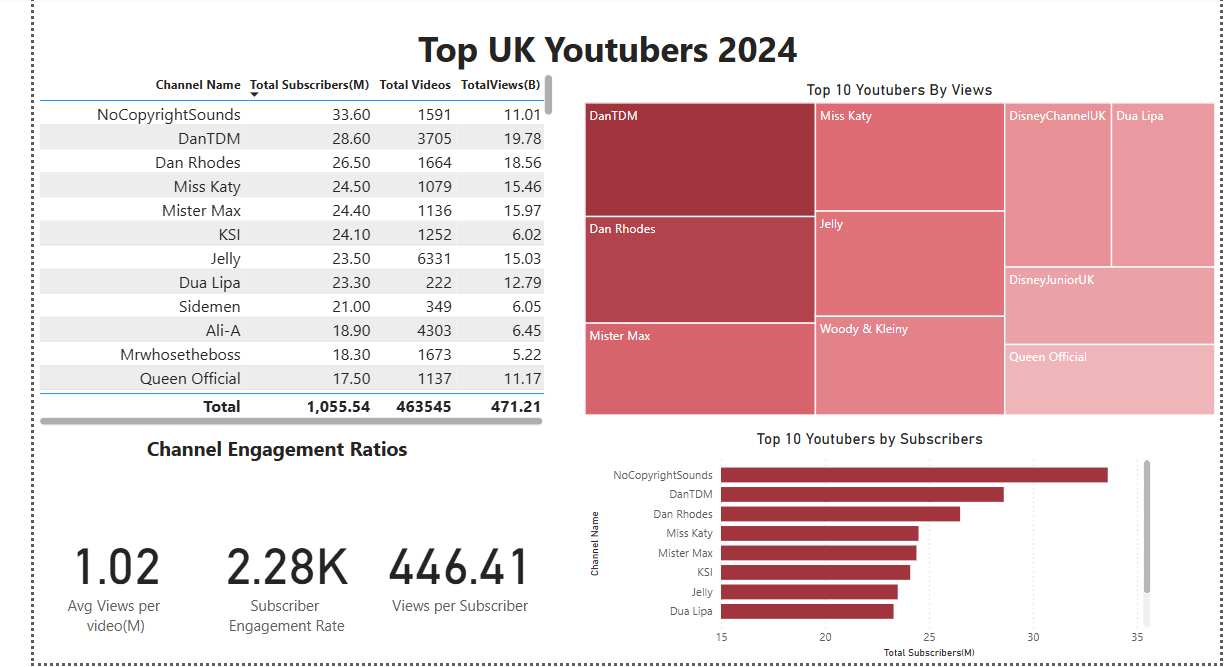

What the dashboard file says about the page in this screenshot:
{"tool":"powerbi","page":{"name":"Page 1","canvas":[1280,720],"ordinal":0},"visuals":[{"type":"textbox","box":[397.8,25.1,441.8,106.8],"z":0},{"type":"tableEx","fields":{"Values":["view_uk_youtubers_2024.channel_name","view_uk_youtubers_2024.Total Subscribers(M)","view_uk_youtubers_2024.Total Videos","view_uk_youtubers_2024.TotalViews(B)"]},"box":[0,78.8,565,389.3],"z":1},{"type":"treemap","title":"Top 10 Youtubers By Views","fields":{"Group":["view_uk_youtubers_2024.channel_name"],"Values":["view_uk_youtubers_2024.TotalViews(B)"]},"box":[589.6,90.3,689.8,366.3],"z":2},{"type":"card","fields":{"Values":["view_uk_youtubers_2024.Avg Views per video(M)"]},"box":[0,517.4,175.7,202],"z":3},{"type":"card","fields":{"Values":["view_uk_youtubers_2024.Subscriber Engagement Rate"]},"box":[187.2,517.4,169.2,202],"z":4},{"type":"card","fields":{"Values":["view_uk_youtubers_2024.Views per Subscriber"]},"box":[369.5,517.4,180.7,202],"z":5},{"type":"clusteredBarChart","title":"Top 10 Youtubers by Subscribers","fields":{"Category":["view_uk_youtubers_2024.channel_name"],"Y":["view_uk_youtubers_2024.Total Subscribers(M)"]},"box":[594.6,468.1,615.9,251.3],"z":6},{"type":"textbox","box":[100.2,468.1,323.6,49.3],"z":7}]}

Visuals, with their boxes in screenshot pixels (x1, y1, x2, y2):
textbox: {"left": 402, "top": 0, "right": 820, "bottom": 99}
tableEx - view_uk_youtubers_2024.channel_name x view_uk_youtubers_2024.Total Subscribers(M): {"left": 26, "top": 49, "right": 560, "bottom": 417}
"Top 10 Youtubers By Views" treemap: {"left": 583, "top": 60, "right": 1223, "bottom": 406}
card - view_uk_youtubers_2024.Avg Views per video(M): {"left": 26, "top": 464, "right": 192, "bottom": 655}
card - view_uk_youtubers_2024.Subscriber Engagement Rate: {"left": 203, "top": 464, "right": 363, "bottom": 655}
card - view_uk_youtubers_2024.Views per Subscriber: {"left": 375, "top": 464, "right": 546, "bottom": 655}
"Top 10 Youtubers by Subscribers" clusteredBarChart: {"left": 588, "top": 417, "right": 1171, "bottom": 655}
textbox: {"left": 120, "top": 417, "right": 426, "bottom": 464}
